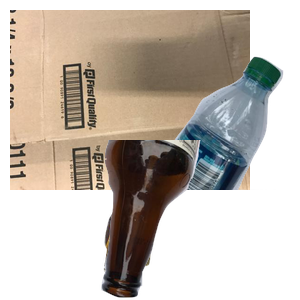cardboard: (10, 10, 250, 190)
glass: (99, 140, 300, 300)
plastic: (142, 54, 300, 234)
trash: (101, 157, 270, 300)
